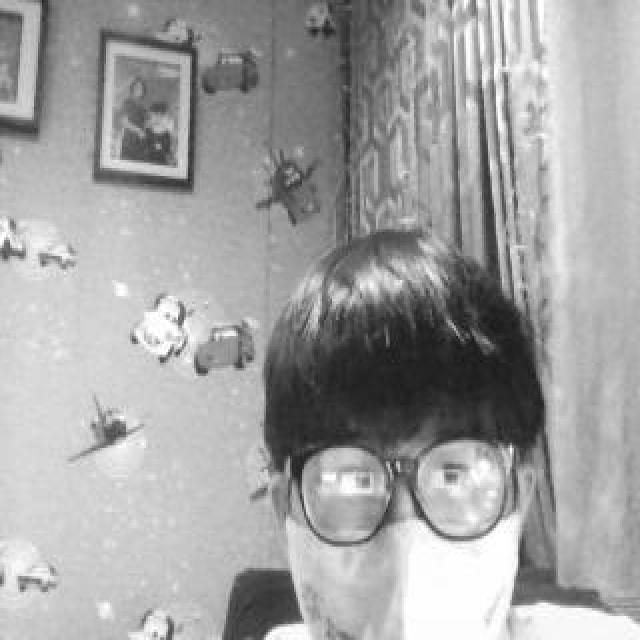Focused: (264, 226, 536, 634)
